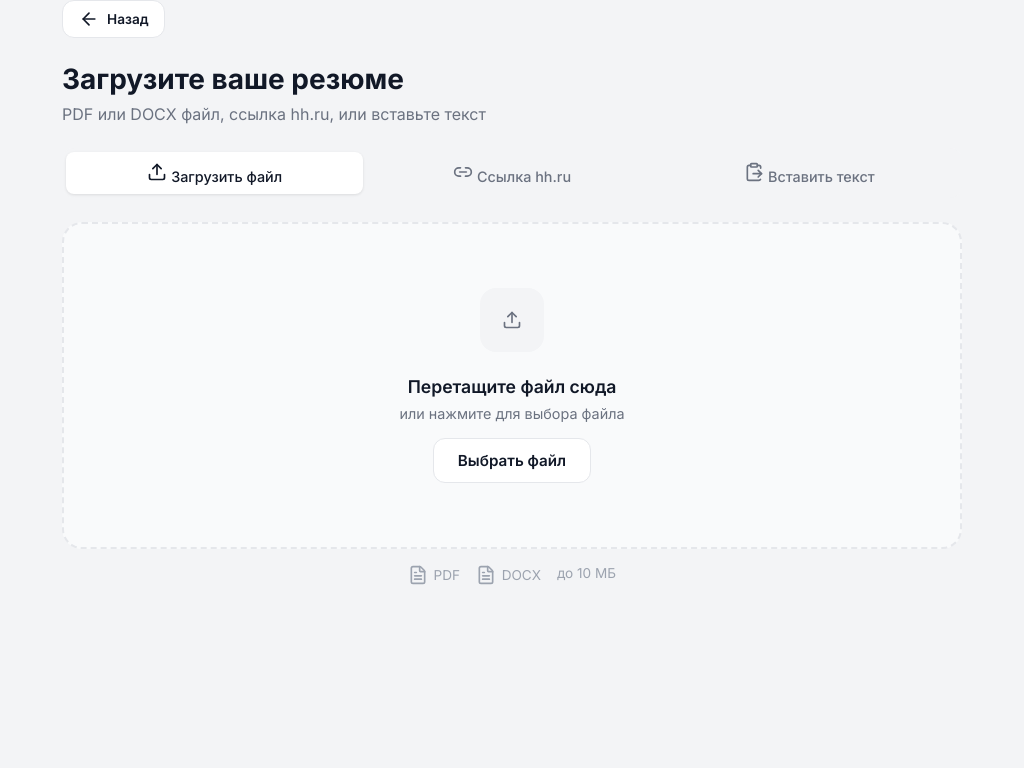
Test case: UploadPage hh.ru URL tab › shows error and fallback on hh.ru parse failure
The image size is (1024, 768).
Step 1. Click the text "Ссылка hh.ru" → click(524, 176), box [477, 168, 571, 185]
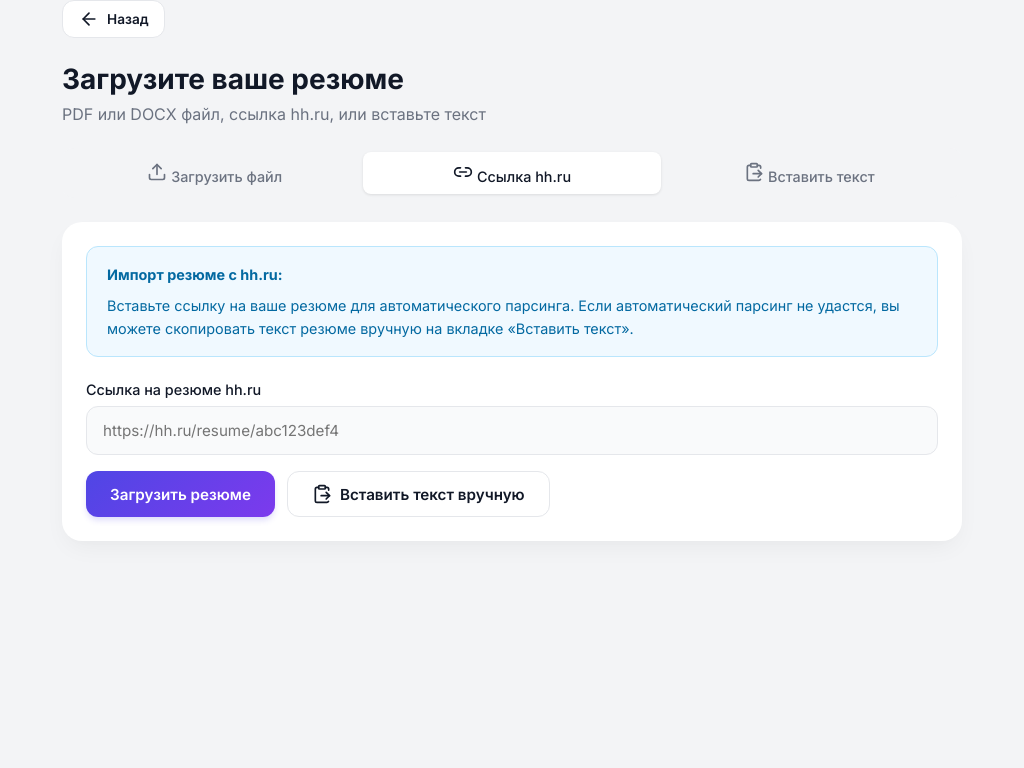
Step 2. Type "https://hh.ru/resume/abc123" into the field with placeholder "https://hh.ru/resume/abc123def4" → (512, 431), box [86, 406, 938, 455]
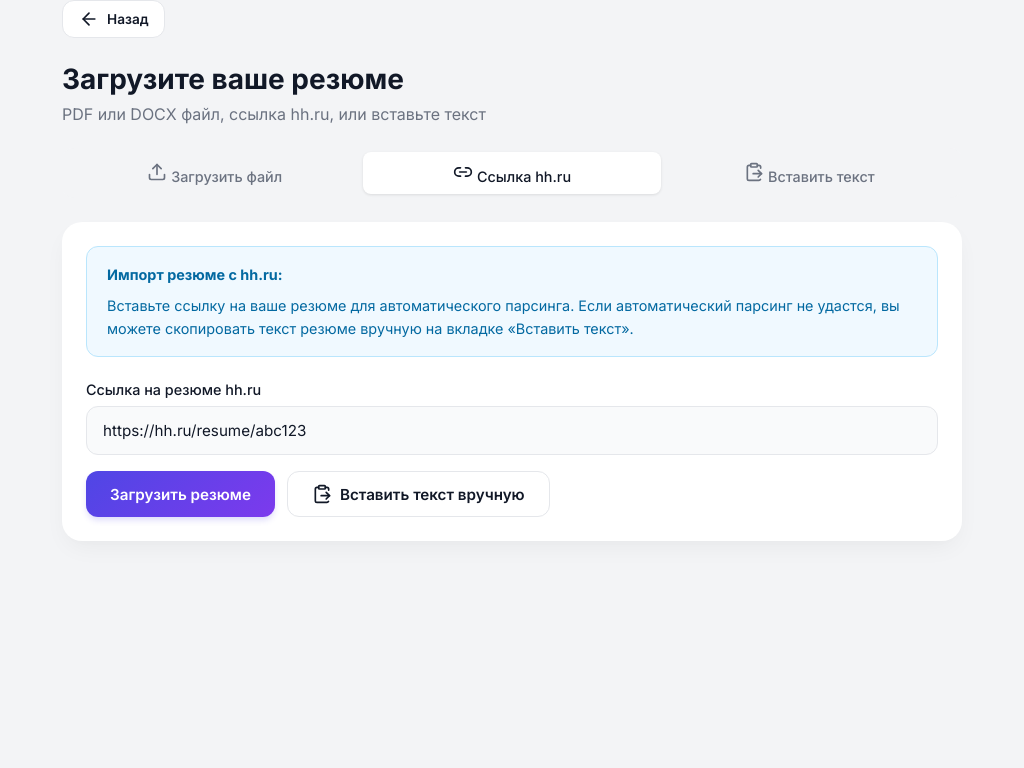
Step 3. Click the button "Загрузить резюме" → click(180, 494), box [86, 471, 275, 517]
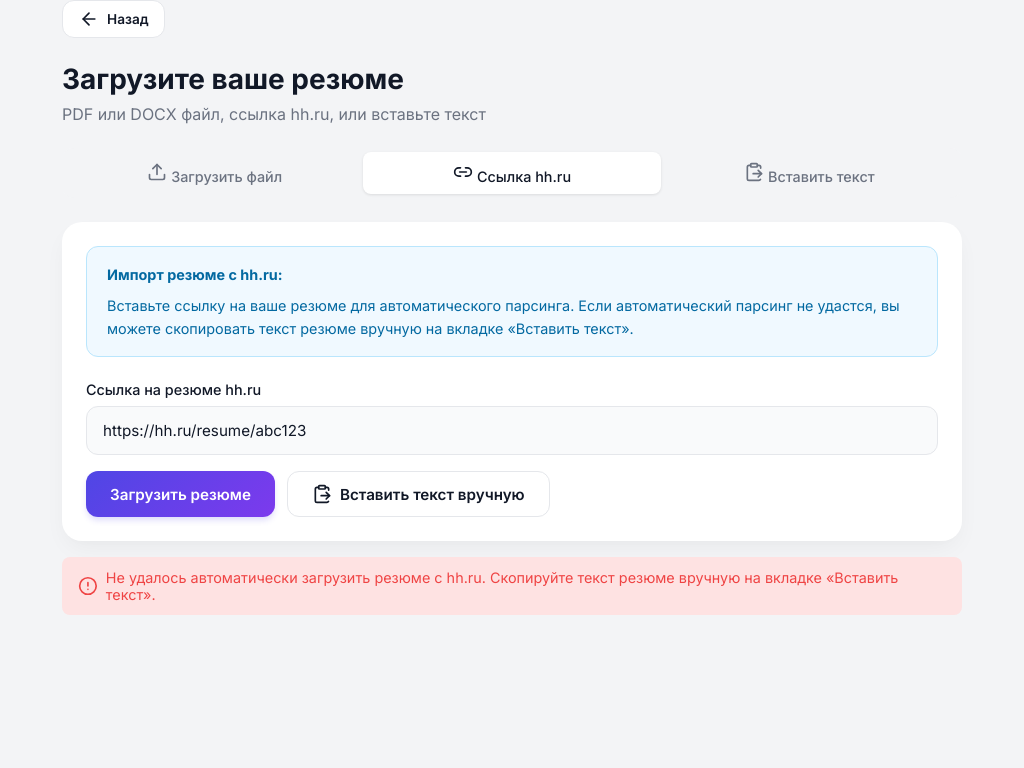
Now the text "Не удалось автоматически загрузить" is shown, box [106, 569, 898, 603]
